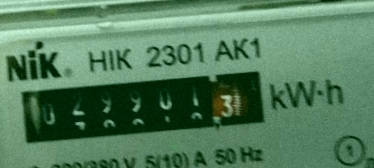0: (37, 98, 58, 126), (156, 82, 174, 112)
1: (186, 79, 202, 108)
2: (67, 89, 87, 118)
3: (217, 91, 236, 118)
9: (97, 87, 115, 115), (128, 86, 143, 114)
screen: (11, 60, 276, 153)
